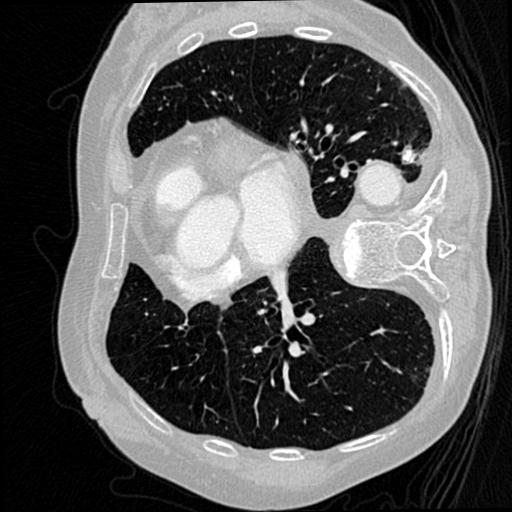nodule: (401, 148, 420, 167)
